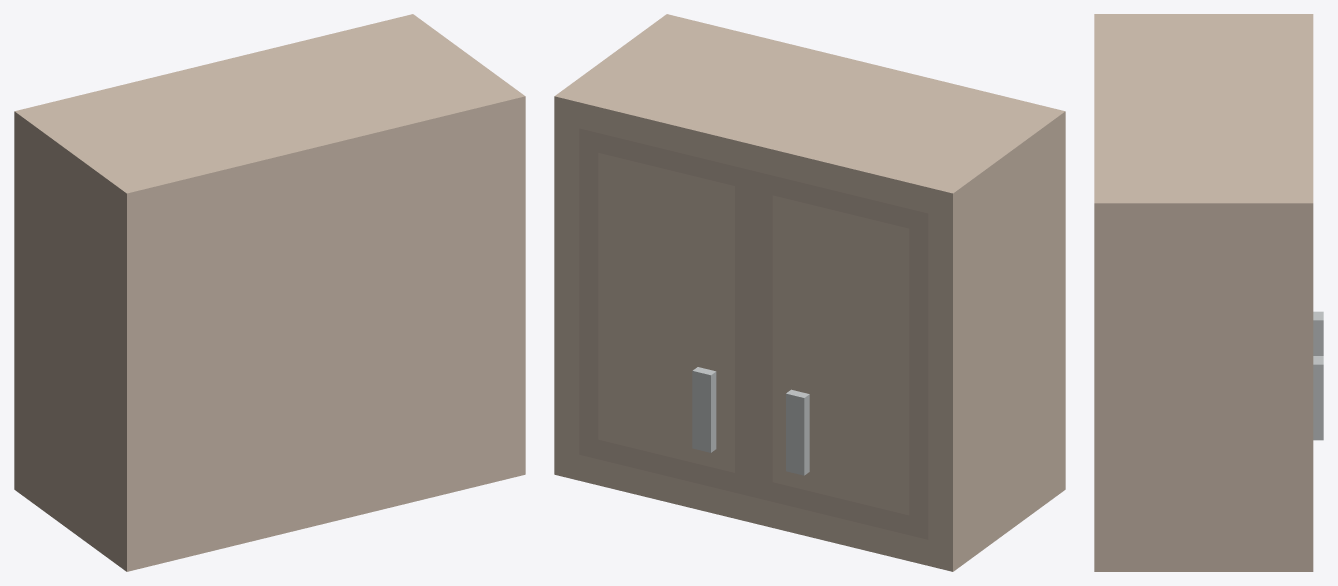
The model's file is furn_kitchenCabinetUpperDouble.glb.
3 renders of one model, left to right at view 1: azimuth 30°, elevation 25°; view 2: azimuth 150°, elevation 25°; view 3: azimuth 270°, elevation 25°, orthographic. The views are drawn at different scales.
Bounding box in the file's own units: 0.86 × 0.78 × 0.44.
